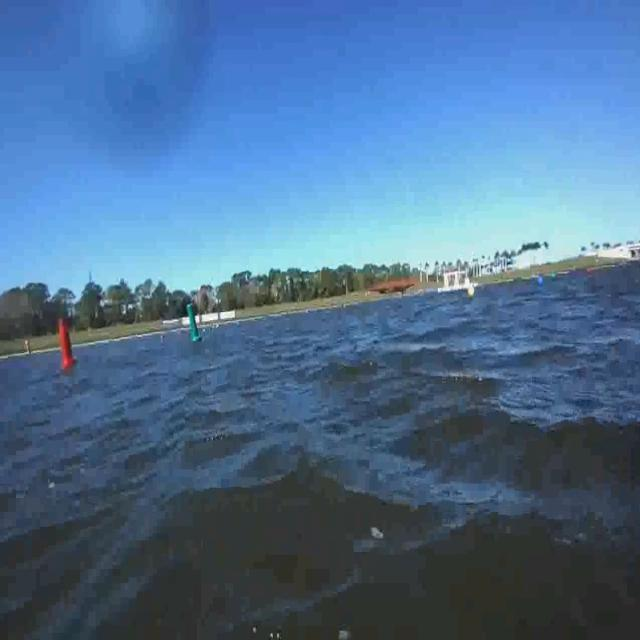green-column-buoy: (181, 299, 205, 350)
red-column-buoy: (53, 313, 83, 382)
